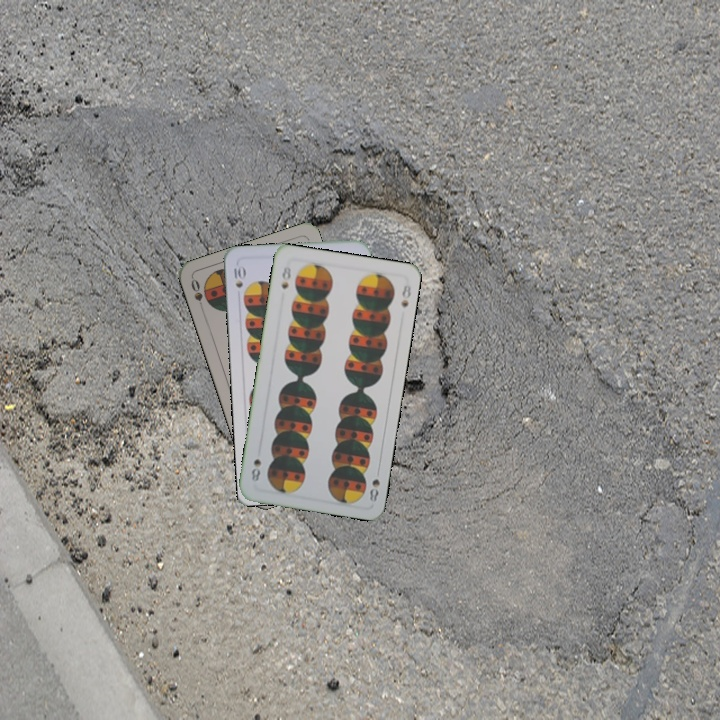S10: (229, 262, 247, 290)
S8: (366, 464, 382, 504), (277, 262, 294, 292)
SO: (187, 275, 207, 315)
